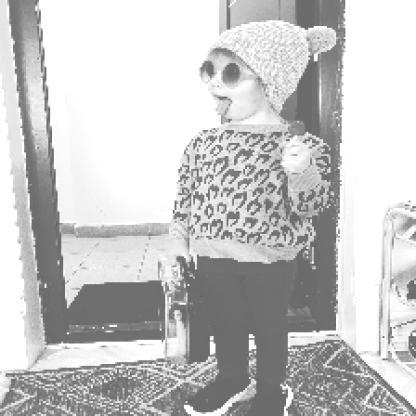child: (155, 20, 339, 416)
